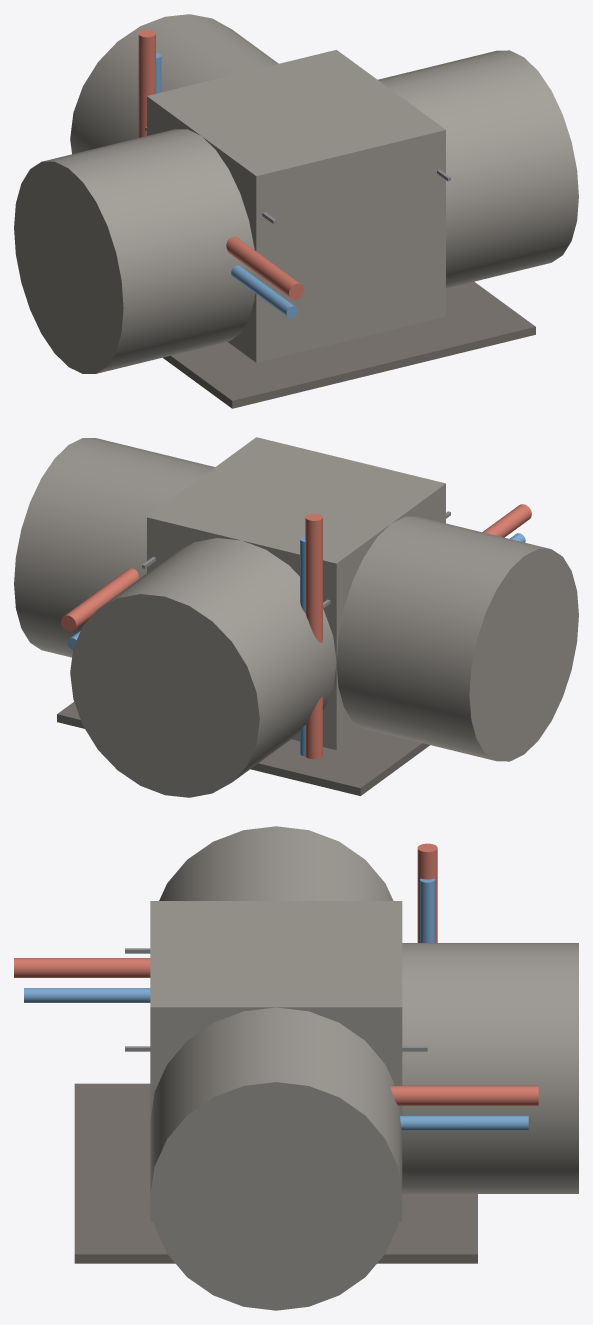
The model's file is maintenance_tunnel_junction.glb.
The picture shows the model from 3 angles, top to bottom: view 1: azimuth 30°, elevation 25°; view 2: azimuth 150°, elevation 25°; view 3: azimuth 270°, elevation 25°; orthographic projection. The views are drawn at different scales.
Visible parts, largest first — view 1: junction_body, tunnel_w, tunnel_e, floor, tunnel_n, pipe_red_w, pipe_red_n, pipe_blue_w; view 2: tunnel_n, tunnel_w, junction_body, tunnel_e, floor, pipe_red_n, pipe_red_e, pipe_red_w, pipe_blue_n; view 3: tunnel_e, tunnel_n, junction_body, floor, tunnel_w, pipe_red_e, pipe_red_w, pipe_blue_e, pipe_blue_w, pipe_red_n, pipe_blue_n.
Part boxes in pixels (<box>): junction_body: <box>147,50,445,362</box>; tunnel_w: <box>14,129,256,373</box>; tunnel_e: <box>378,50,578,288</box>; floor: <box>163,281,535,408</box>; tunnel_n: <box>70,14,278,154</box>; pipe_red_w: <box>226,236,303,299</box>; pipe_red_n: <box>138,30,155,137</box>; pipe_blue_w: <box>231,265,297,318</box>; tunnel_n: <box>70,538,336,797</box>; tunnel_w: <box>336,516,578,761</box>; junction_body: <box>147,437,445,750</box>; tunnel_e: <box>14,438,214,657</box>; floor: <box>57,702,429,795</box>; pipe_red_n: <box>305,513,322,759</box>; pipe_red_e: <box>61,568,138,631</box>; pipe_red_w: <box>482,504,531,537</box>; pipe_blue_n: <box>300,536,305,756</box>; tunnel_e: <box>150,1007,402,1310</box>; tunnel_n: <box>402,943,578,1193</box>; junction_body: <box>150,901,402,1222</box>; floor: <box>74,1083,477,1263</box>; tunnel_w: <box>159,826,393,900</box>; pipe_red_e: <box>390,1085,538,1105</box>; pipe_red_w: <box>14,958,150,977</box>; pipe_blue_e: <box>400,1115,528,1130</box>; pipe_blue_w: <box>24,988,150,1002</box>; pipe_red_n: <box>417,843,437,942</box>; pipe_blue_n: <box>420,878,435,942</box>.
Size of the model in its own units: 12 by 6.6 by 11.2.
